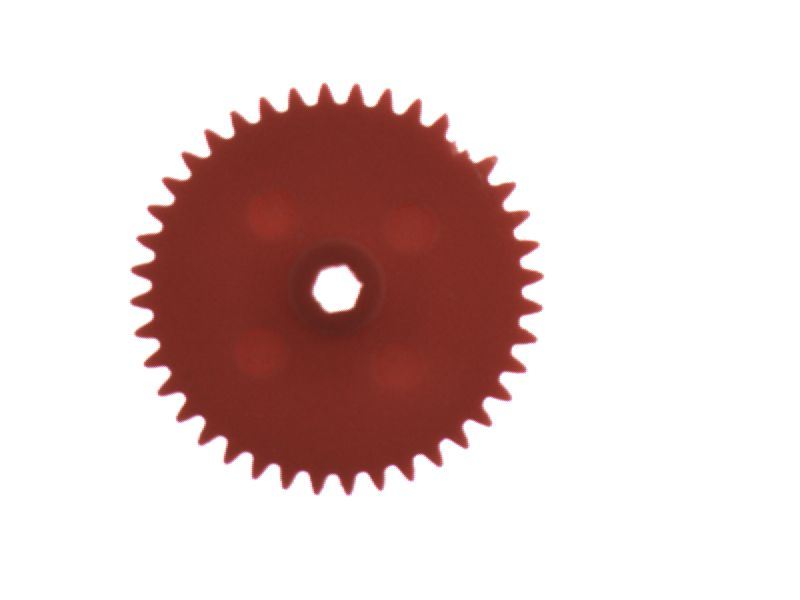defect_lack: (434, 102, 512, 167)
